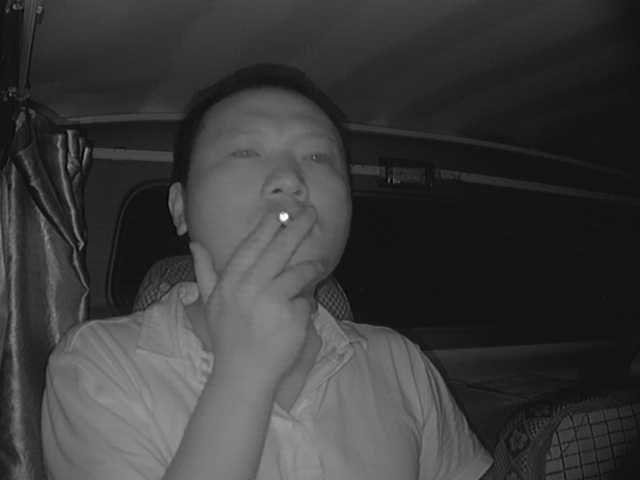hand: (234, 208, 324, 333)
